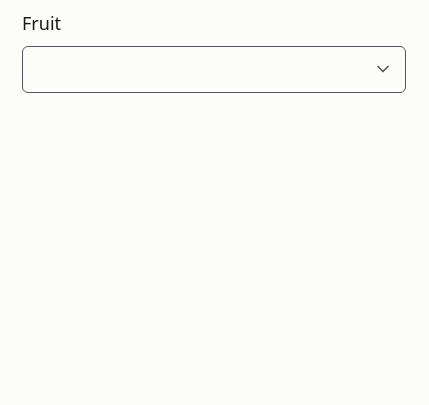
Scenario: single selection › selects with the keyboard and skips disabled options
Click the dropdown at (192, 69), box left=23, top=47, right=361, bottom=92
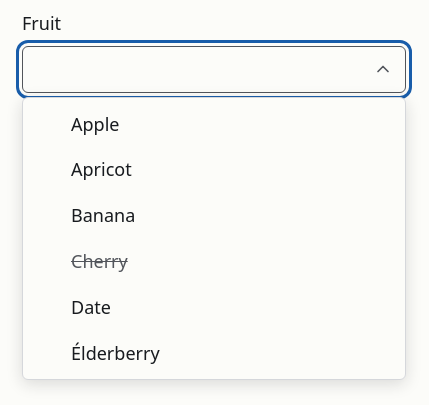
Press Arrowdown Arrowdown Arrowdown {ArrowD
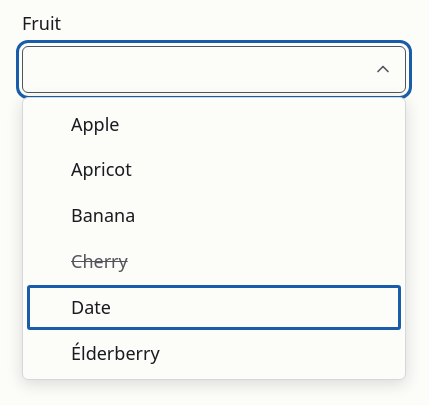
Now the option "Date" is shown, box left=71, top=295, right=111, bottom=319
Press Enter
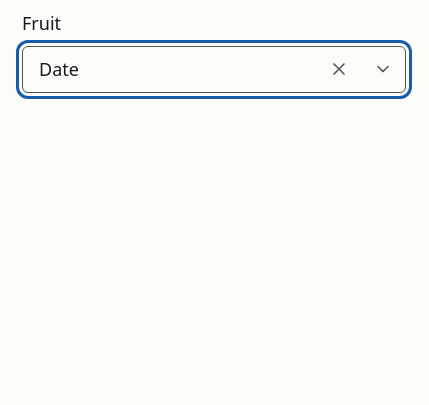
Now the dropdown holds "Date", box left=23, top=47, right=317, bottom=92
